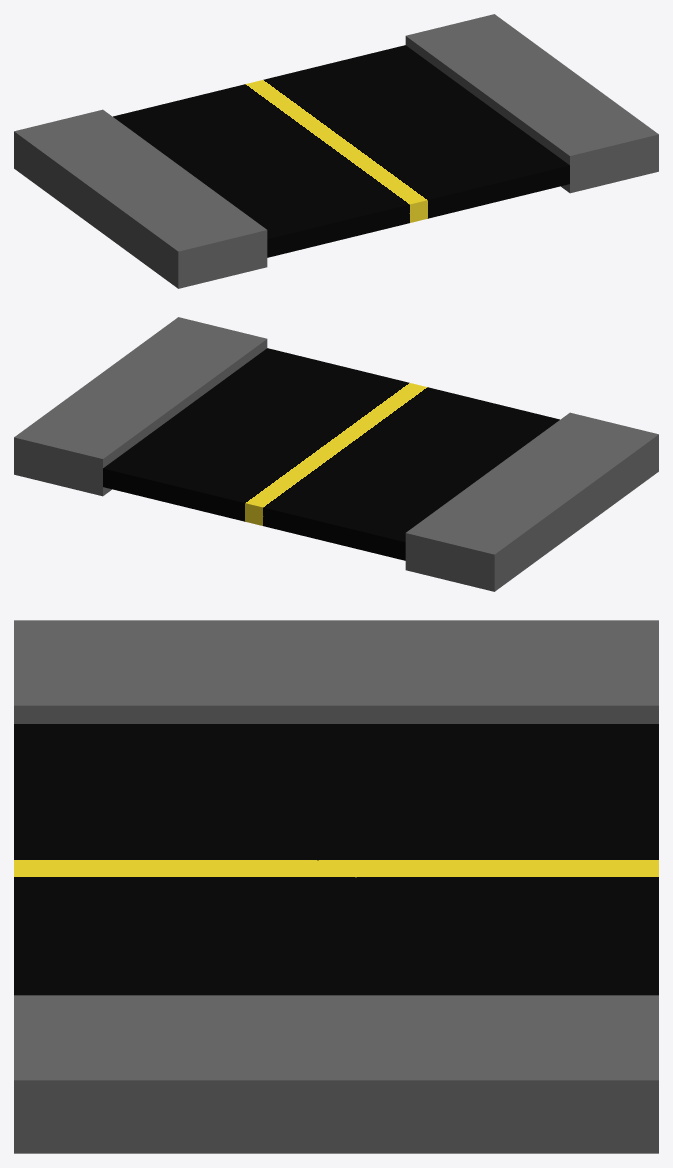
File: road.fbx
3 renders of one model, top to bottom at view 1: azimuth 30°, elevation 25°; view 2: azimuth 150°, elevation 25°; view 3: azimuth 270°, elevation 25°, orthographic. The views are drawn at different scales.
Parts seen in each view (by area): view 1: cuboid; view 2: cuboid; view 3: cuboid.
Part boxes in pixels (x1,y1,x2,y2): cuboid: [14, 14, 658, 288]; cuboid: [14, 317, 658, 591]; cuboid: [14, 620, 658, 1153].
Bounding box in the file's own units: 169 × 12.5 × 100.
Materials: 1 (1 with a texture image).
